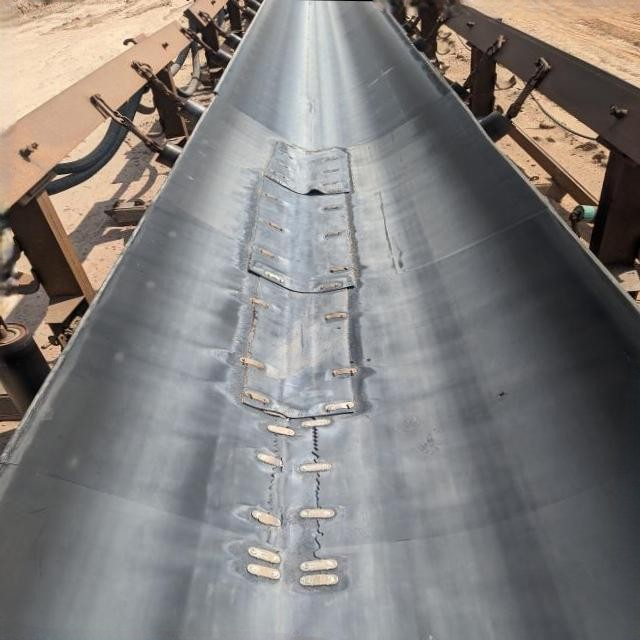Tear: (263, 469, 282, 513), (307, 519, 326, 561), (305, 428, 325, 464), (308, 472, 326, 508), (268, 433, 286, 458)
